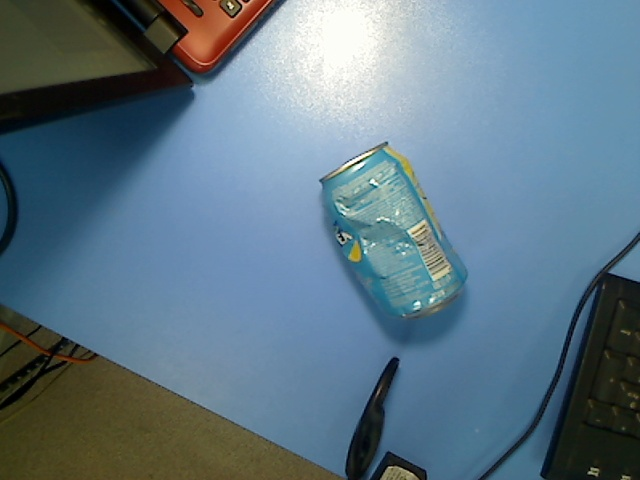can: (316, 140, 476, 329)
